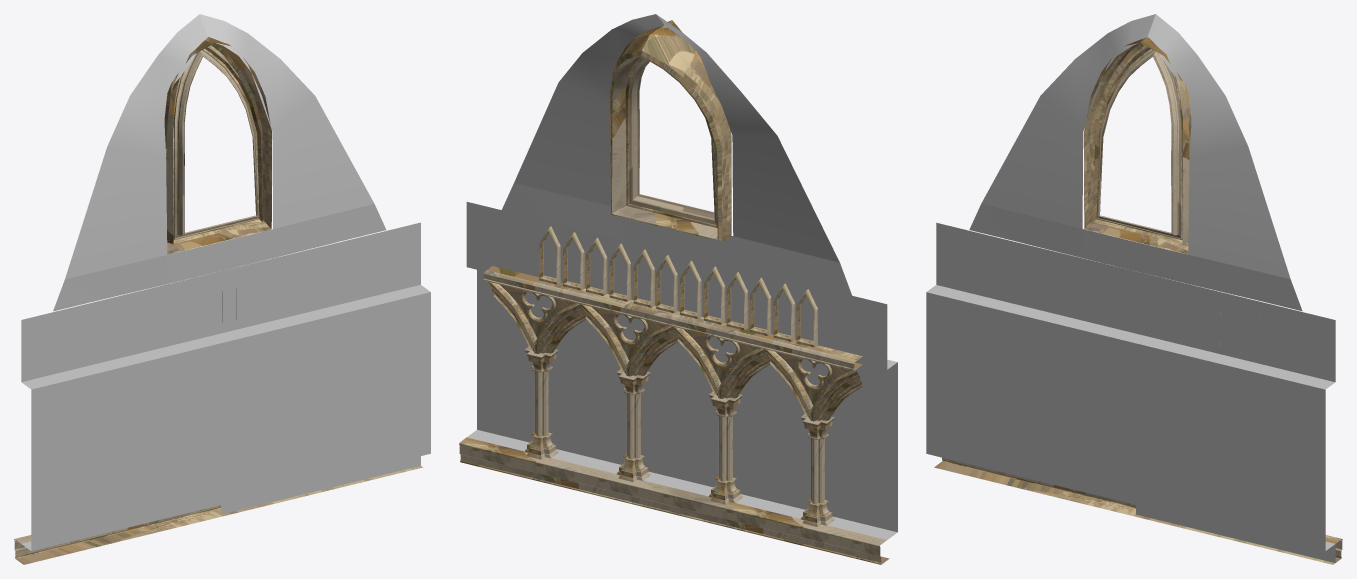
File: SM_walltop_01.fbx
3 views of the same model, side by side, from view 1: azimuth 30°, elevation 25°; view 2: azimuth 150°, elevation 25°; view 3: azimuth 330°, elevation 25° (orthographic). The views are drawn at different scales.
Visible parts, largest first — view 1: polySurface32424; view 2: polySurface32424; view 3: polySurface32424.
Part boxes in pixels (x1,y1,x2,y2): polySurface32424: (14, 14, 430, 564); polySurface32424: (459, 14, 897, 564); polySurface32424: (926, 14, 1342, 564).
Size of the model in its own units: 24.16 by 28.05 by 4.66.
